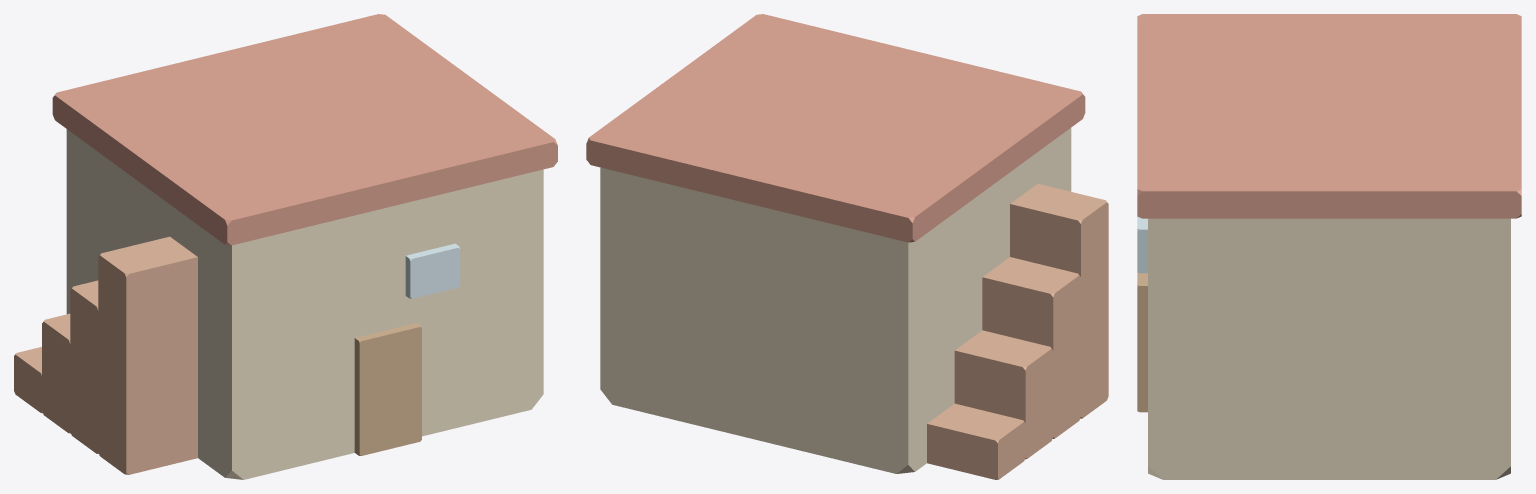
Rendered from house_a.glb.
The picture shows the model from 3 angles, left to right: view 1: azimuth 30°, elevation 25°; view 2: azimuth 150°, elevation 25°; view 3: azimuth 270°, elevation 25°; orthographic projection. The views are drawn at different scales.
Parts seen in each view (by area): view 1: body_m0, body_m1, body_m7, body_m2, body_m6, body_m5, body_m3, body_m4; view 2: body_m0, body_m1, body_m7, body_m6, body_m5, body_m4; view 3: body_m0, body_m1, body_m2, body_m3.
Boxes of the visible parts, left/top/right/bottom form: body_m0: left=66, top=129, right=543, bottom=479; body_m1: left=52, top=14, right=557, bottom=245; body_m7: left=98, top=236, right=197, bottom=474; body_m2: left=354, top=323, right=421, bottom=455; body_m6: left=70, top=280, right=98, bottom=453; body_m5: left=42, top=313, right=70, bottom=433; body_m3: left=405, top=243, right=460, bottom=298; body_m4: left=14, top=347, right=42, bottom=413; body_m0: left=600, top=128, right=1071, bottom=473; body_m1: left=586, top=14, right=1085, bottom=242; body_m7: left=1010, top=184, right=1108, bottom=418; body_m6: left=982, top=257, right=1080, bottom=438; body_m5: left=954, top=330, right=1053, bottom=459; body_m4: left=927, top=403, right=1025, bottom=479; body_m0: left=1148, top=218, right=1510, bottom=479; body_m1: left=1137, top=14, right=1521, bottom=218; body_m2: left=1137, top=272, right=1147, bottom=412; body_m3: left=1137, top=216, right=1147, bottom=273.
Bounding box in the file's own units: 3.53 × 2.29 × 2.72.
